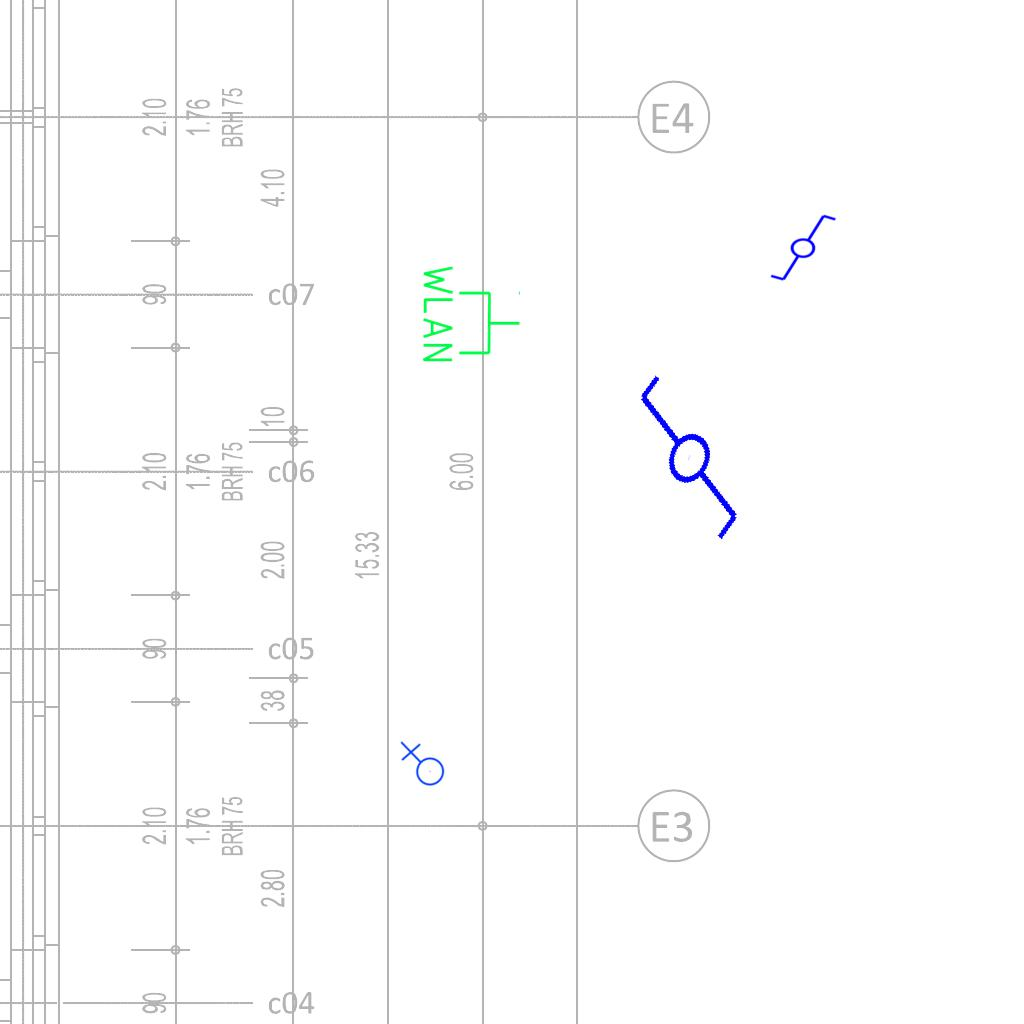Elektroanschluss_allgemein_230V_Geraeteanschlussdose_230V: (398, 741, 445, 790)
WLAN: (419, 261, 523, 366)
Wechselschalter: (589, 366, 780, 564), (760, 211, 838, 283)
